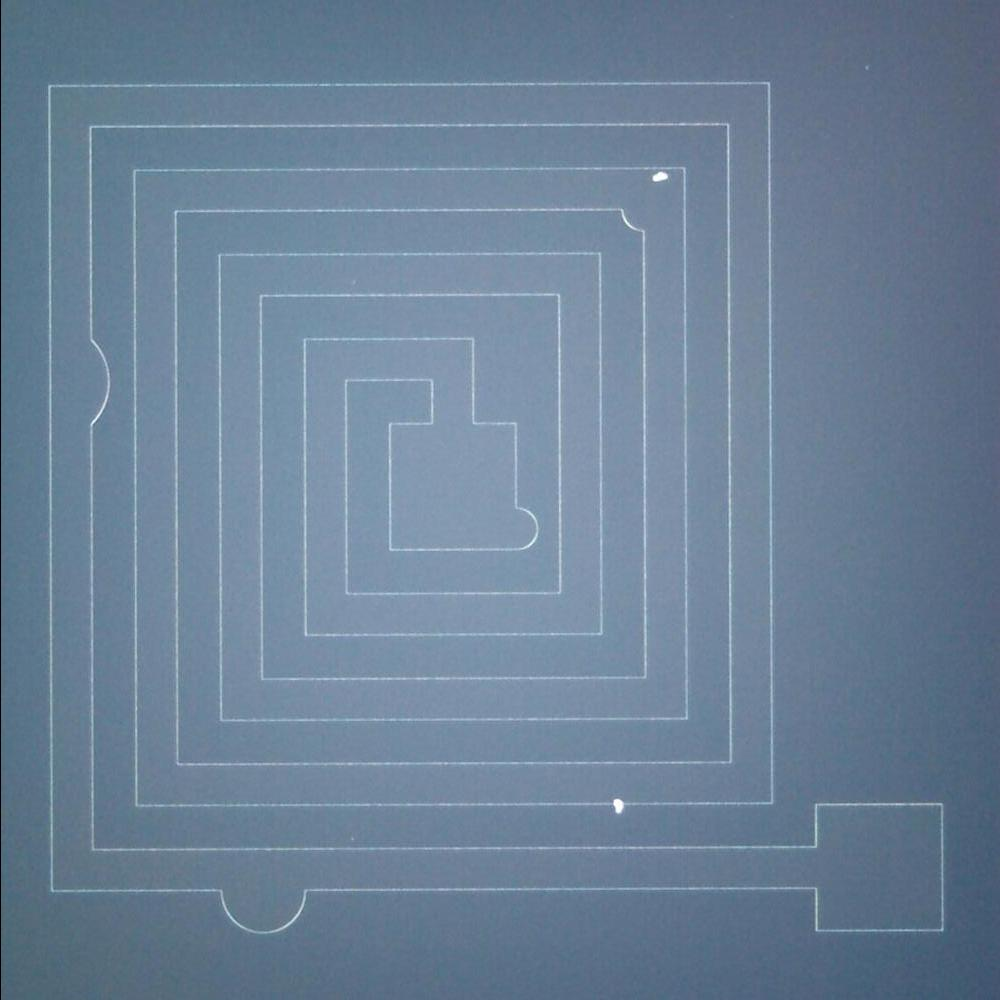curve circuit: (205, 876, 312, 940), (77, 330, 120, 436), (504, 497, 544, 555), (605, 198, 652, 246)
spot: (601, 791, 630, 817), (646, 166, 673, 190)
